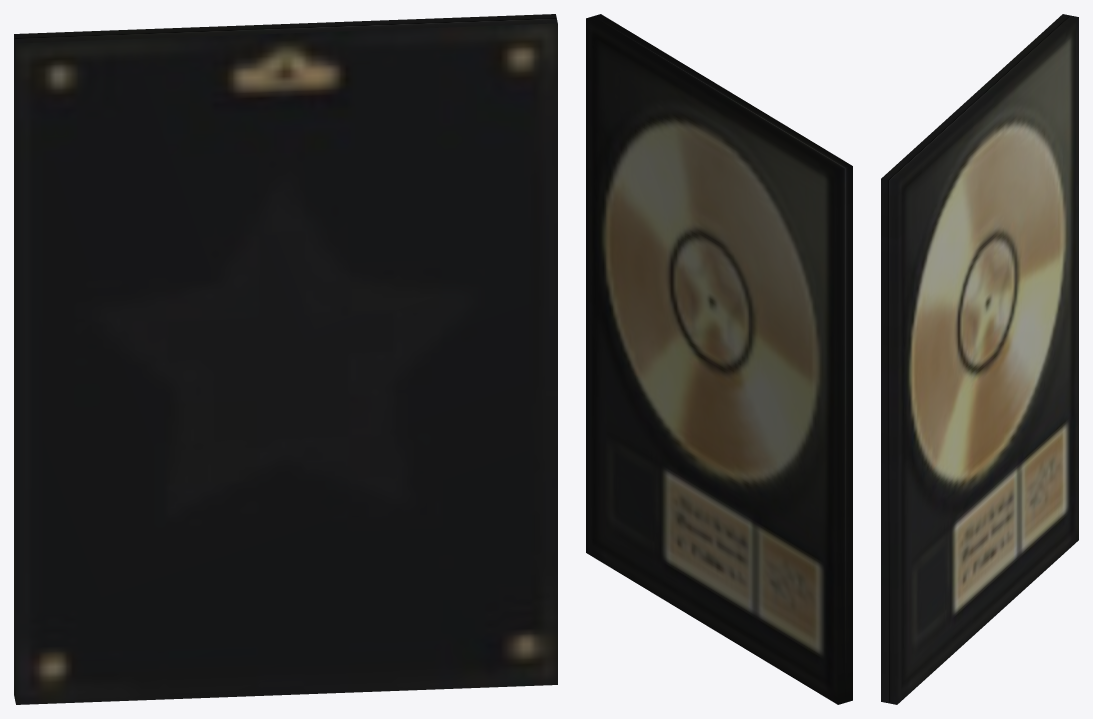
File: starRecord.glb
3 views of the same model, side by side, from view 1: azimuth 30°, elevation 25°; view 2: azimuth 150°, elevation 25°; view 3: azimuth 270°, elevation 25° (orthographic). The views are drawn at different scales.
Parts seen in each view (by area): view 1: starRecord; view 2: starRecord; view 3: starRecord.
Boxes of the visible parts, left/top/right/bottom form: starRecord: left=14, top=14, right=557, bottom=704; starRecord: left=586, top=14, right=852, bottom=704; starRecord: left=881, top=14, right=1078, bottom=704.
Size of the model in its own units: 0.32 by 0.4649 by 0.1593.
Materials: 1 (1 with a texture image).
